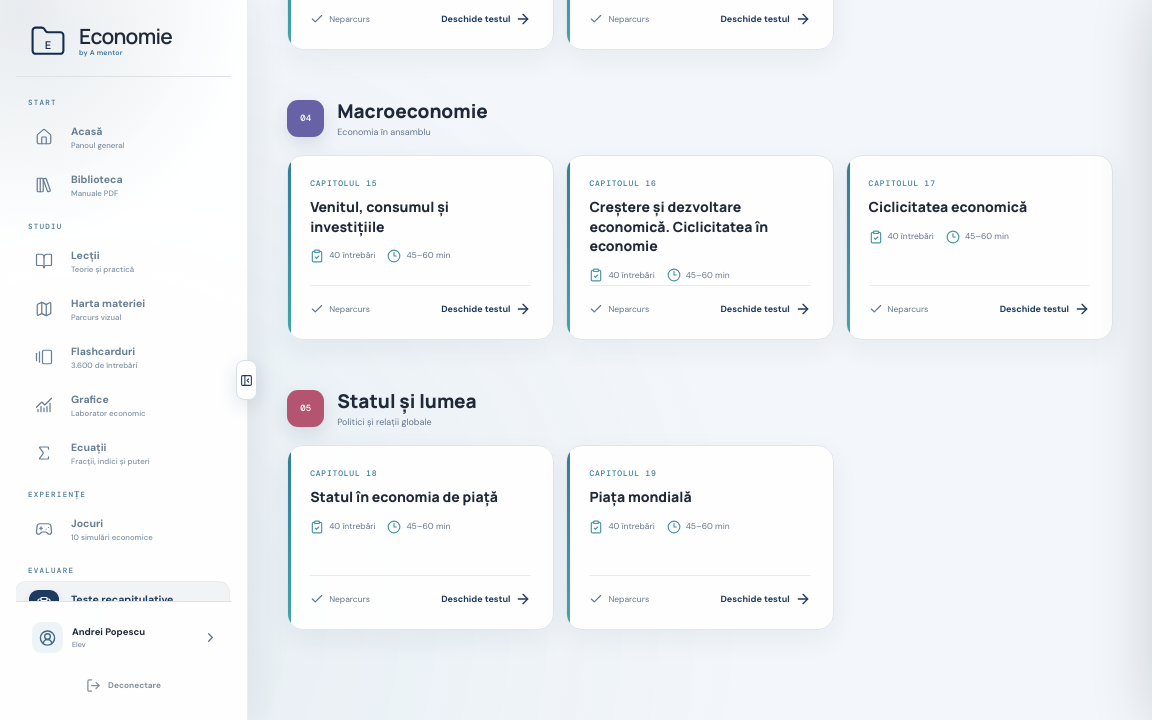
application flow › lists the 19 recap tests with chapter titles and opens the selected test
Earlier steps of the test are not shown.
(page scrolled)
Check: the navigation bar named "Navigare principală" is shown, box [16,86,231,601]
Check: the text "Piața mondială" is shown, box [589,487,692,507]
Click the button with class "recap-open-button" below "Piața mondială".
click(766, 599)  # box [720,591,811,607]
(page scrolled)
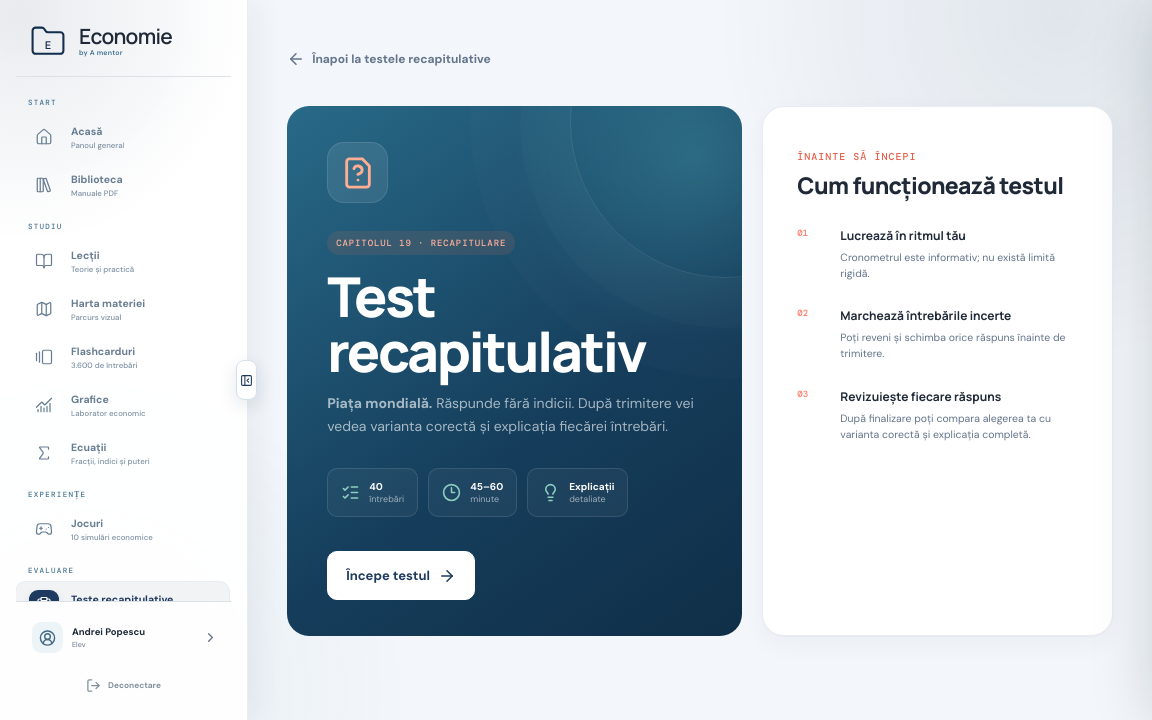
Check: the text "40" is shown, box [369,480,383,493]
Check: the heading "Test recapitulativ" is shown, box [327,258,645,389]
Check: the text "Piața mondială." is shown, box [327,394,432,412]
